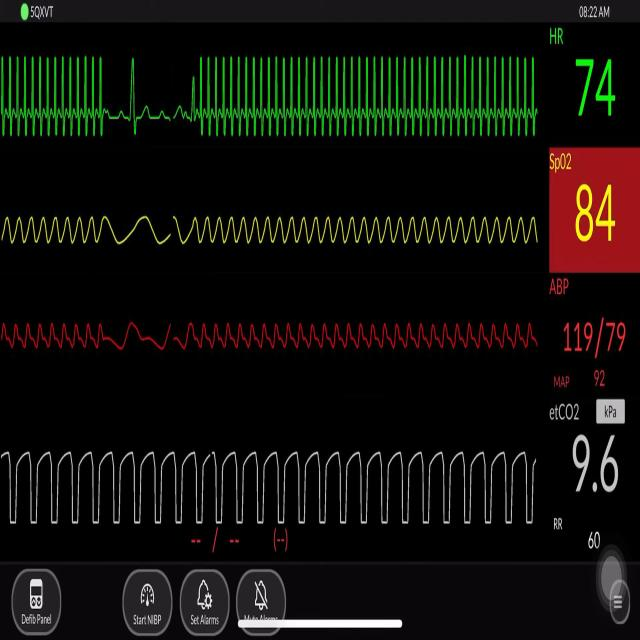danger: (186, 29, 542, 151), (7, 40, 108, 151)
